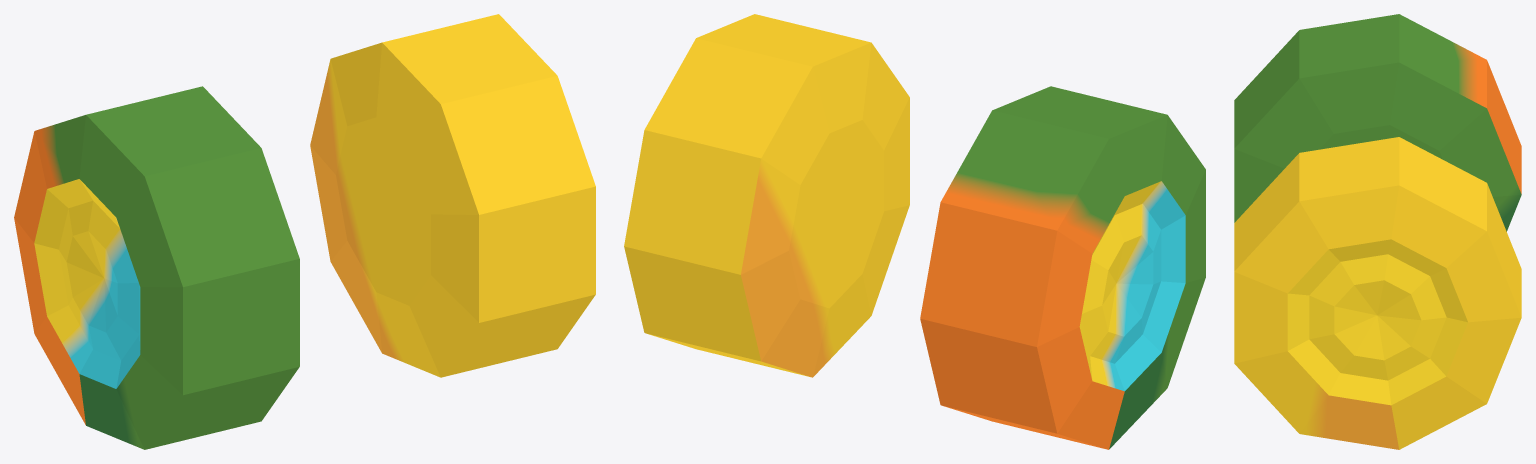
The model's file is plane-passenger-wheels_BL2.glb.
3 views of the same model, side by side, from view 1: azimuth 30°, elevation 25°; view 2: azimuth 150°, elevation 25°; view 3: azimuth 270°, elevation 25° (orthographic). The views are drawn at different scales.
Parts seen in each view (by area): view 1: plane-passenger-wheels_BL2; view 2: plane-passenger-wheels_BL2; view 3: plane-passenger-wheels_BL2.
Part boxes in pixels (<box>): plane-passenger-wheels_BL2: <box>14,14,595,449</box>; plane-passenger-wheels_BL2: <box>624,14,1205,449</box>; plane-passenger-wheels_BL2: <box>1234,14,1521,449</box>.
Size of the model in its own units: 1.94 by 1.33 by 1.31.
Materials: 1 (1 with a texture image).
